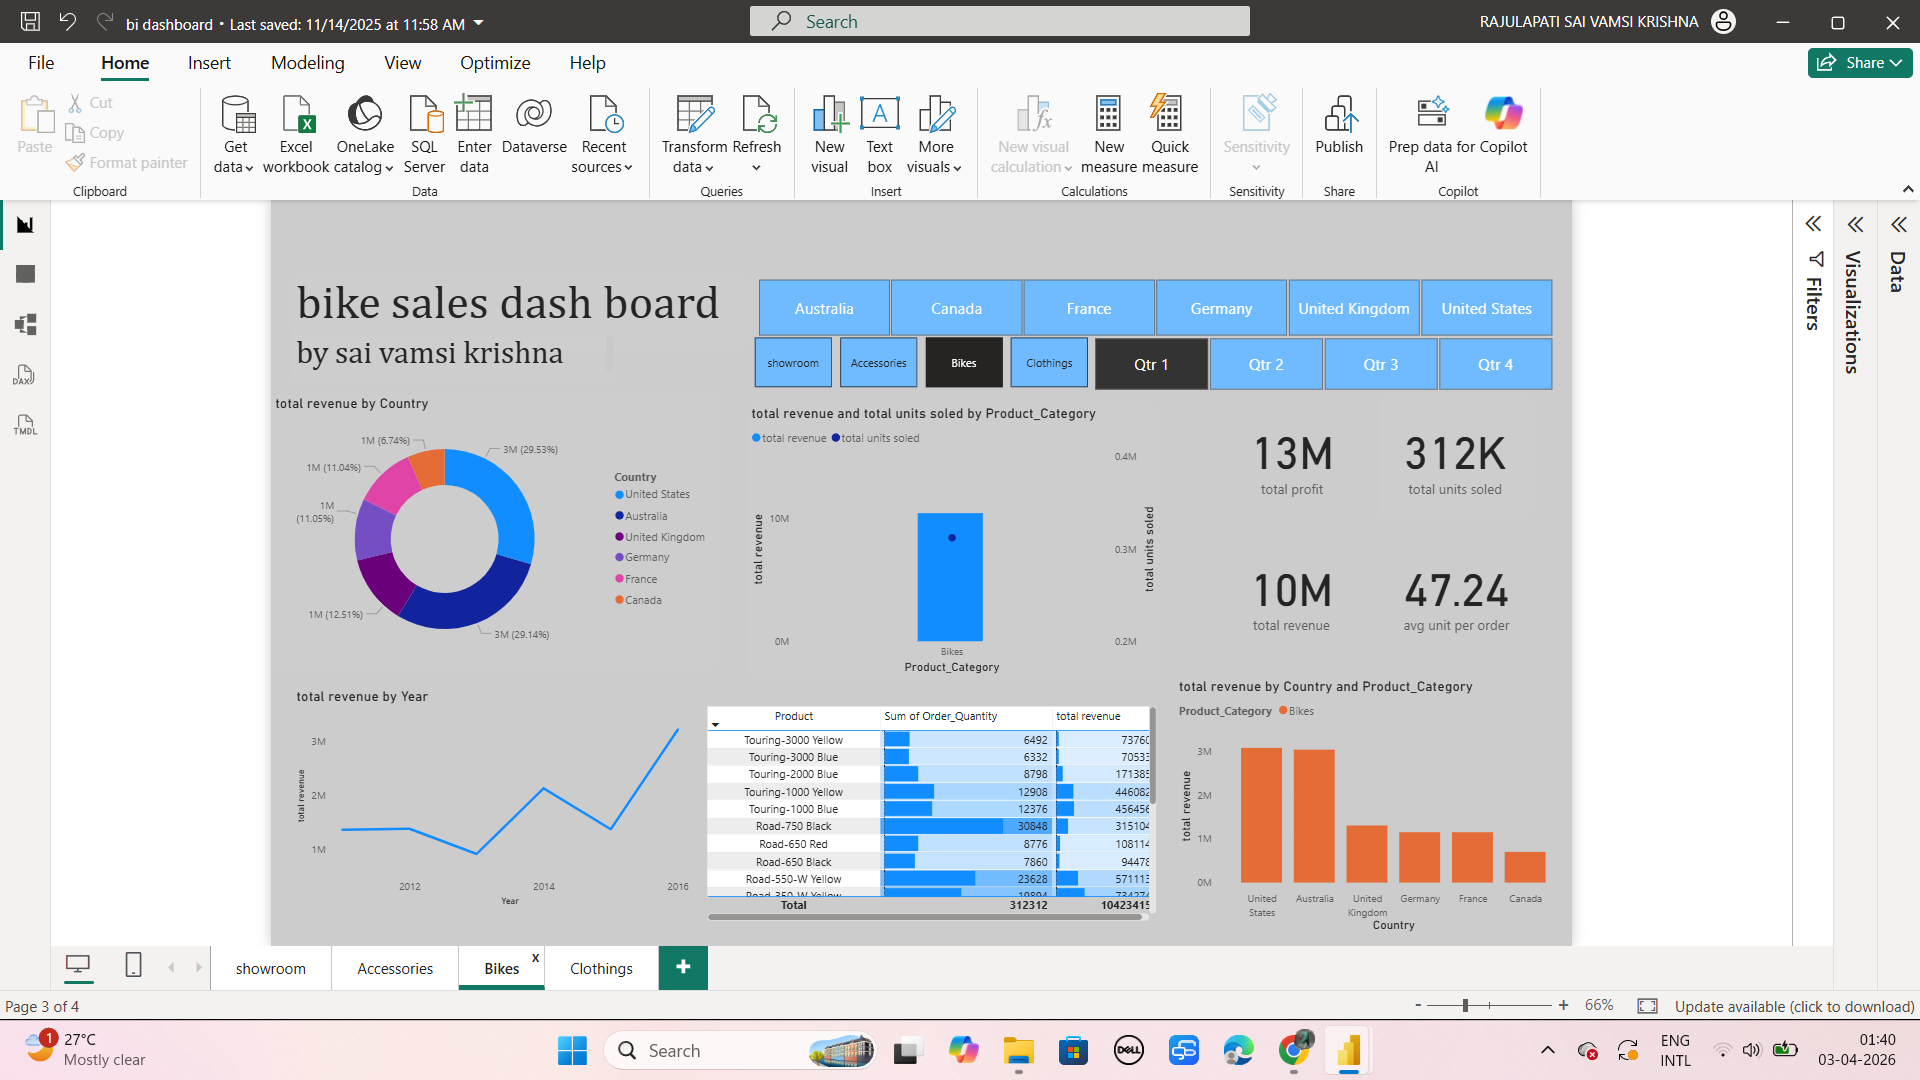

What the dashboard file says about the page in this screenshot:
{"tool":"powerbi","page":{"name":"Bikes","canvas":[1570,900],"ordinal":2},"visuals":[{"type":"slicer","fields":{"Values":["BikeSales-DB.Country"]},"box":[562.5,89,1007.4,81.4],"z":0},{"type":"slicer","fields":{"Values":["BikeSales-DB.Date.Variation.Date Hierarchy.Quarter"]},"box":[968.2,159.9,601.7,75.4],"z":1000},{"type":"card","fields":{"Values":["BikeSales-DB.total revenue"]},"box":[1131,399.6,200.6,149.3],"z":3000},{"type":"card","fields":{"Values":["BikeSales-DB.avg unit per order"]},"box":[1339.1,399.6,182.5,149.3],"z":4000},{"type":"card","fields":{"Values":["BikeSales-DB.total units soled"]},"box":[1337.6,235.3,182.5,149.3],"z":5000},{"type":"card","fields":{"Values":["BikeSales-DB.total profit"]},"box":[1138.6,235.3,187,149.3],"z":6000},{"type":"donutChart","fields":{"Category":["BikeSales-DB.Country"],"Y":["BikeSales-DB.total revenue"]},"box":[0,235.3,538.4,328.8],"z":7000},{"type":"lineClusteredColumnComboChart","fields":{"Category":["BikeSales-DB.Product_Category"],"Y":["BikeSales-DB.total revenue"],"Y2":["BikeSales-DB.total units soled"]},"box":[574.6,247.3,497.7,328.8],"z":8000},{"type":"lineChart","fields":{"Category":["BikeSales-DB.Year"],"Y":["BikeSales-DB.total revenue"]},"box":[25,588.3,483.3,268.3],"z":9000},{"type":"tableEx","fields":{"Values":["BikeSales-DB.Product","Sum(BikeSales-DB.Order_Quantity)","BikeSales-DB.total revenue"]},"box":[520,606.7,553.3,268.3],"z":10000},{"type":"textbox","box":[25.6,89,548.9,93.5],"z":11000},{"type":"textbox","box":[25.6,159.9,392.1,60.3],"z":12000},{"type":"columnChart","fields":{"Category":["BikeSales-DB.Country"],"Series":["BikeSales-DB.Product_Category"],"Y":["BikeSales-DB.total revenue"]},"box":[1090.3,576.1,479.6,312.2],"z":13000},{"type":"pageNavigator","box":[584,166.6,402.3,60.6],"z":13001}]}

Visuals, with their boxes on the page's 1570x900 design canvas (x1, y1, x2, y2). These are canvas units, not pixel positions in the 1920x1080 screenshot, which may show the page scaled, cropped or inside an application window:
slicer - BikeSales-DB.Country: [left=562, top=89, right=1570, bottom=170]
slicer - BikeSales-DB.Date.Variation.Date Hierarchy.Quarter: [left=968, top=160, right=1570, bottom=235]
card - BikeSales-DB.total revenue: [left=1131, top=400, right=1332, bottom=549]
card - BikeSales-DB.avg unit per order: [left=1339, top=400, right=1522, bottom=549]
card - BikeSales-DB.total units soled: [left=1338, top=235, right=1520, bottom=385]
card - BikeSales-DB.total profit: [left=1139, top=235, right=1326, bottom=385]
donutChart - BikeSales-DB.Country x BikeSales-DB.total revenue: [left=0, top=235, right=538, bottom=564]
lineClusteredColumnComboChart - BikeSales-DB.Product_Category x BikeSales-DB.total revenue: [left=575, top=247, right=1072, bottom=576]
lineChart - BikeSales-DB.Year x BikeSales-DB.total revenue: [left=25, top=588, right=508, bottom=857]
tableEx - BikeSales-DB.Product x Sum(BikeSales-DB.Order_Quantity): [left=520, top=607, right=1073, bottom=875]
textbox: [left=26, top=89, right=574, bottom=182]
textbox: [left=26, top=160, right=418, bottom=220]
columnChart - BikeSales-DB.Country x BikeSales-DB.Product_Category: [left=1090, top=576, right=1570, bottom=888]
pageNavigator: [left=584, top=167, right=986, bottom=227]
